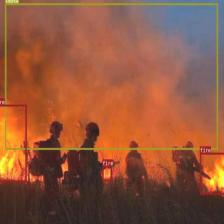fire: (0, 104, 26, 182), (199, 152, 224, 194), (102, 165, 112, 181)
smoke: (5, 3, 218, 149)
